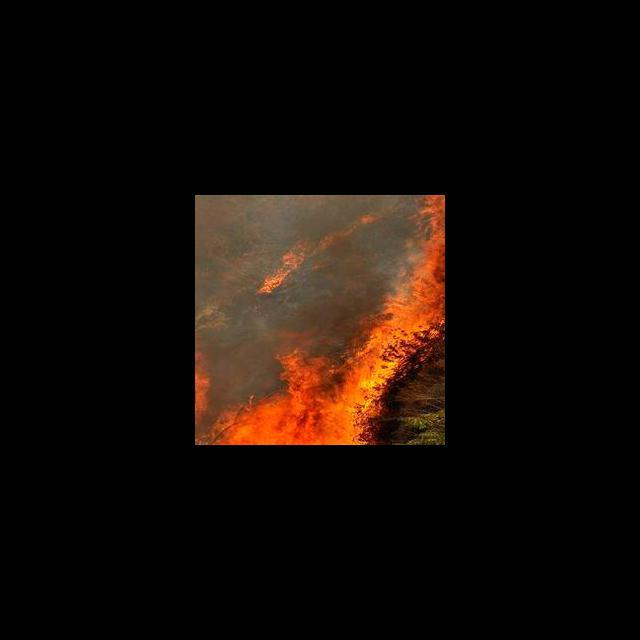Fire: (207, 195, 445, 444)
